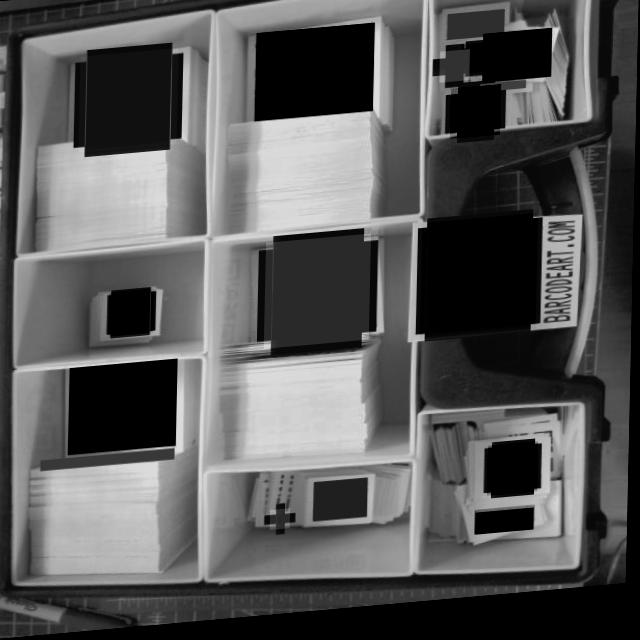qr_code: (421, 222, 539, 346), (266, 240, 372, 353), (256, 29, 375, 125), (70, 361, 179, 456), (79, 50, 179, 153), (483, 37, 553, 91), (43, 450, 177, 471), (451, 93, 502, 146), (490, 451, 540, 504), (315, 483, 370, 527), (110, 291, 156, 338), (448, 18, 505, 48), (478, 514, 536, 542), (440, 57, 470, 90), (462, 51, 492, 82), (481, 89, 527, 100), (272, 513, 293, 534)
